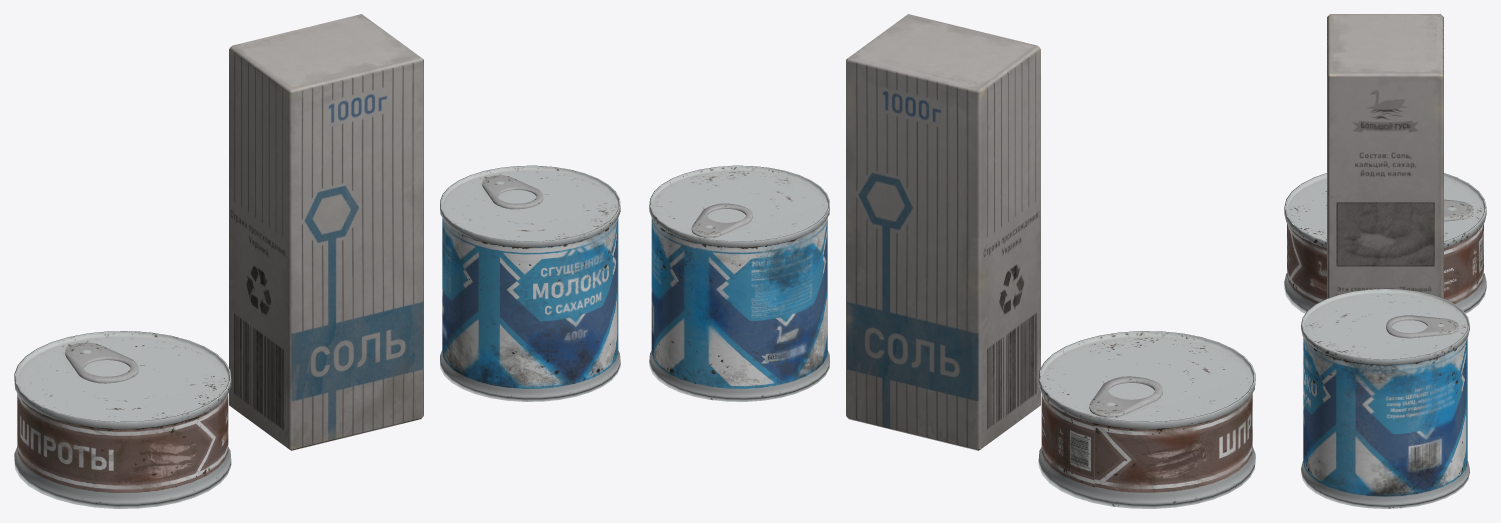
The model's file is web.gltf.
3 views of the same model, side by side, from view 1: azimuth 30°, elevation 25°; view 2: azimuth 150°, elevation 25°; view 3: azimuth 270°, elevation 25° (orthographic). The views are drawn at different scales.
Visible parts, largest first — view 1: russian_food_cans_01_salt_box, russian_food_cans_01_can_cond, russian_food_cans_01_can_fish; view 2: russian_food_cans_01_salt_box, russian_food_cans_01_can_cond, russian_food_cans_01_can_fish; view 3: russian_food_cans_01_can_cond, russian_food_cans_01_salt_box, russian_food_cans_01_can_fish.
Part boxes in pixels (<box>): russian_food_cans_01_salt_box: <box>229,14,423,450</box>; russian_food_cans_01_can_cond: <box>440,165,620,401</box>; russian_food_cans_01_can_fish: <box>14,331,231,508</box>; russian_food_cans_01_salt_box: <box>846,14,1040,450</box>; russian_food_cans_01_can_cond: <box>649,165,829,401</box>; russian_food_cans_01_can_fish: <box>1038,331,1255,508</box>; russian_food_cans_01_can_cond: <box>1301,288,1469,508</box>; russian_food_cans_01_salt_box: <box>1327,14,1443,298</box>; russian_food_cans_01_can_fish: <box>1284,173,1486,313</box>.
Size of the model in its own units: 0.1424 by 0.0849 by 0.0462.
Materials: 1 (1 with a texture image).
